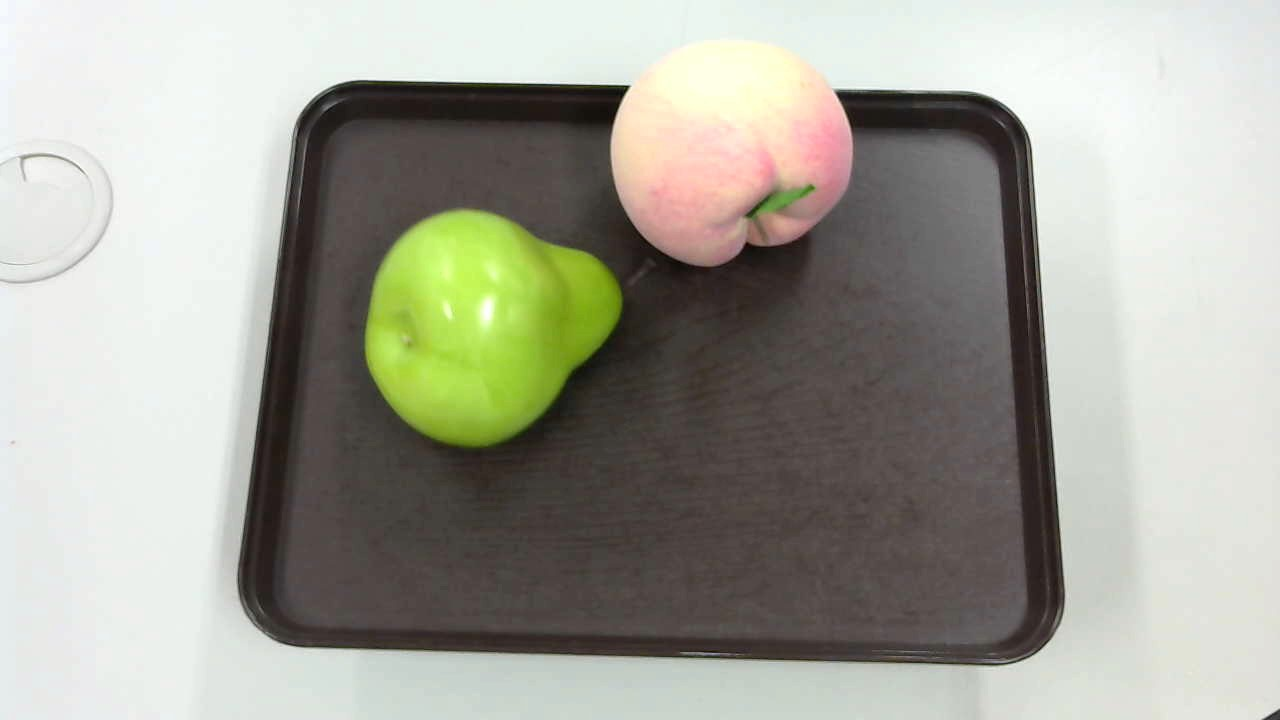green pear: (359, 209, 666, 460)
peach: (609, 37, 854, 270)
